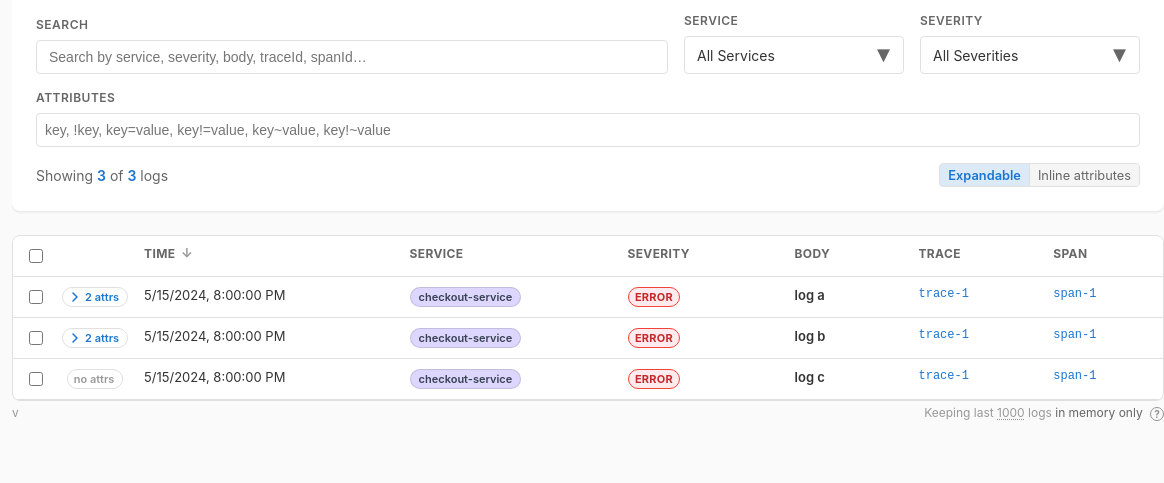
Test: Logs › attribute filters › filters with region=EU-WEST-1
Expected: the text "log a" is shown, [783,276,906,318]
Step 1. Type "region=EU-WEST-1" into the field named "Filter by attributes" → (588, 130), box [45,118,1131,142]
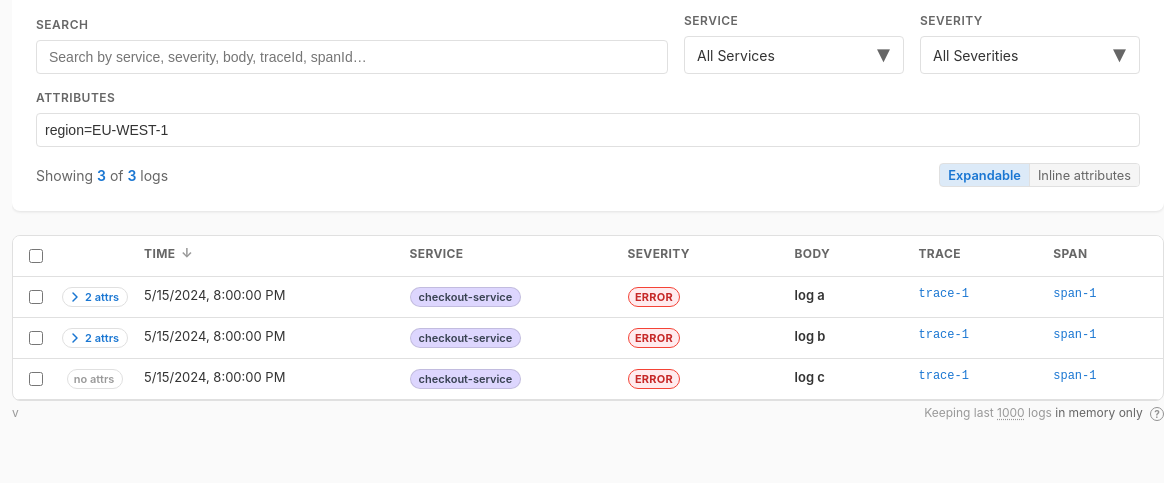
Step 2. Press Enter in the field named "Filter by attributes", box [45,118,1131,142]
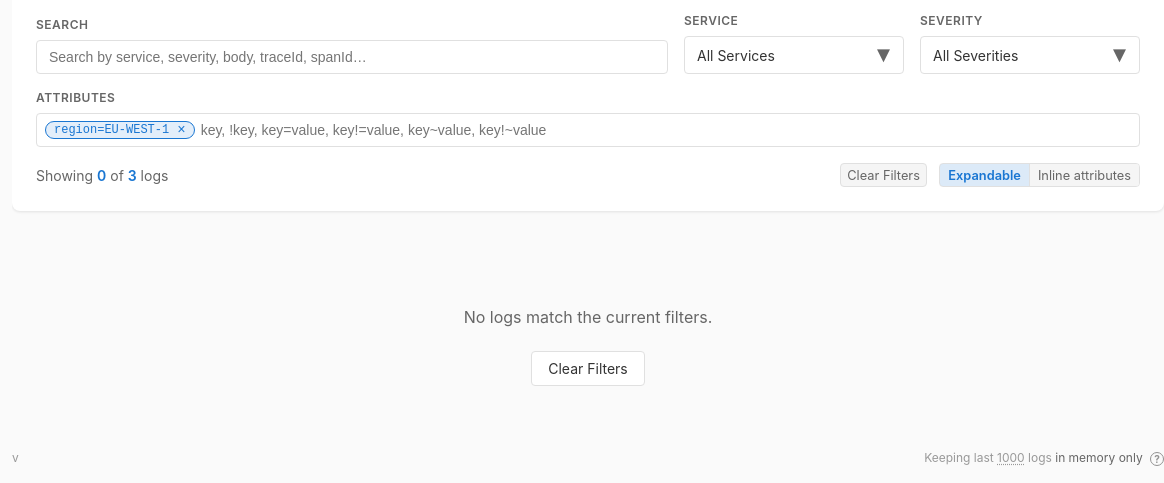
Result: no rows with test id "log-row" are shown
